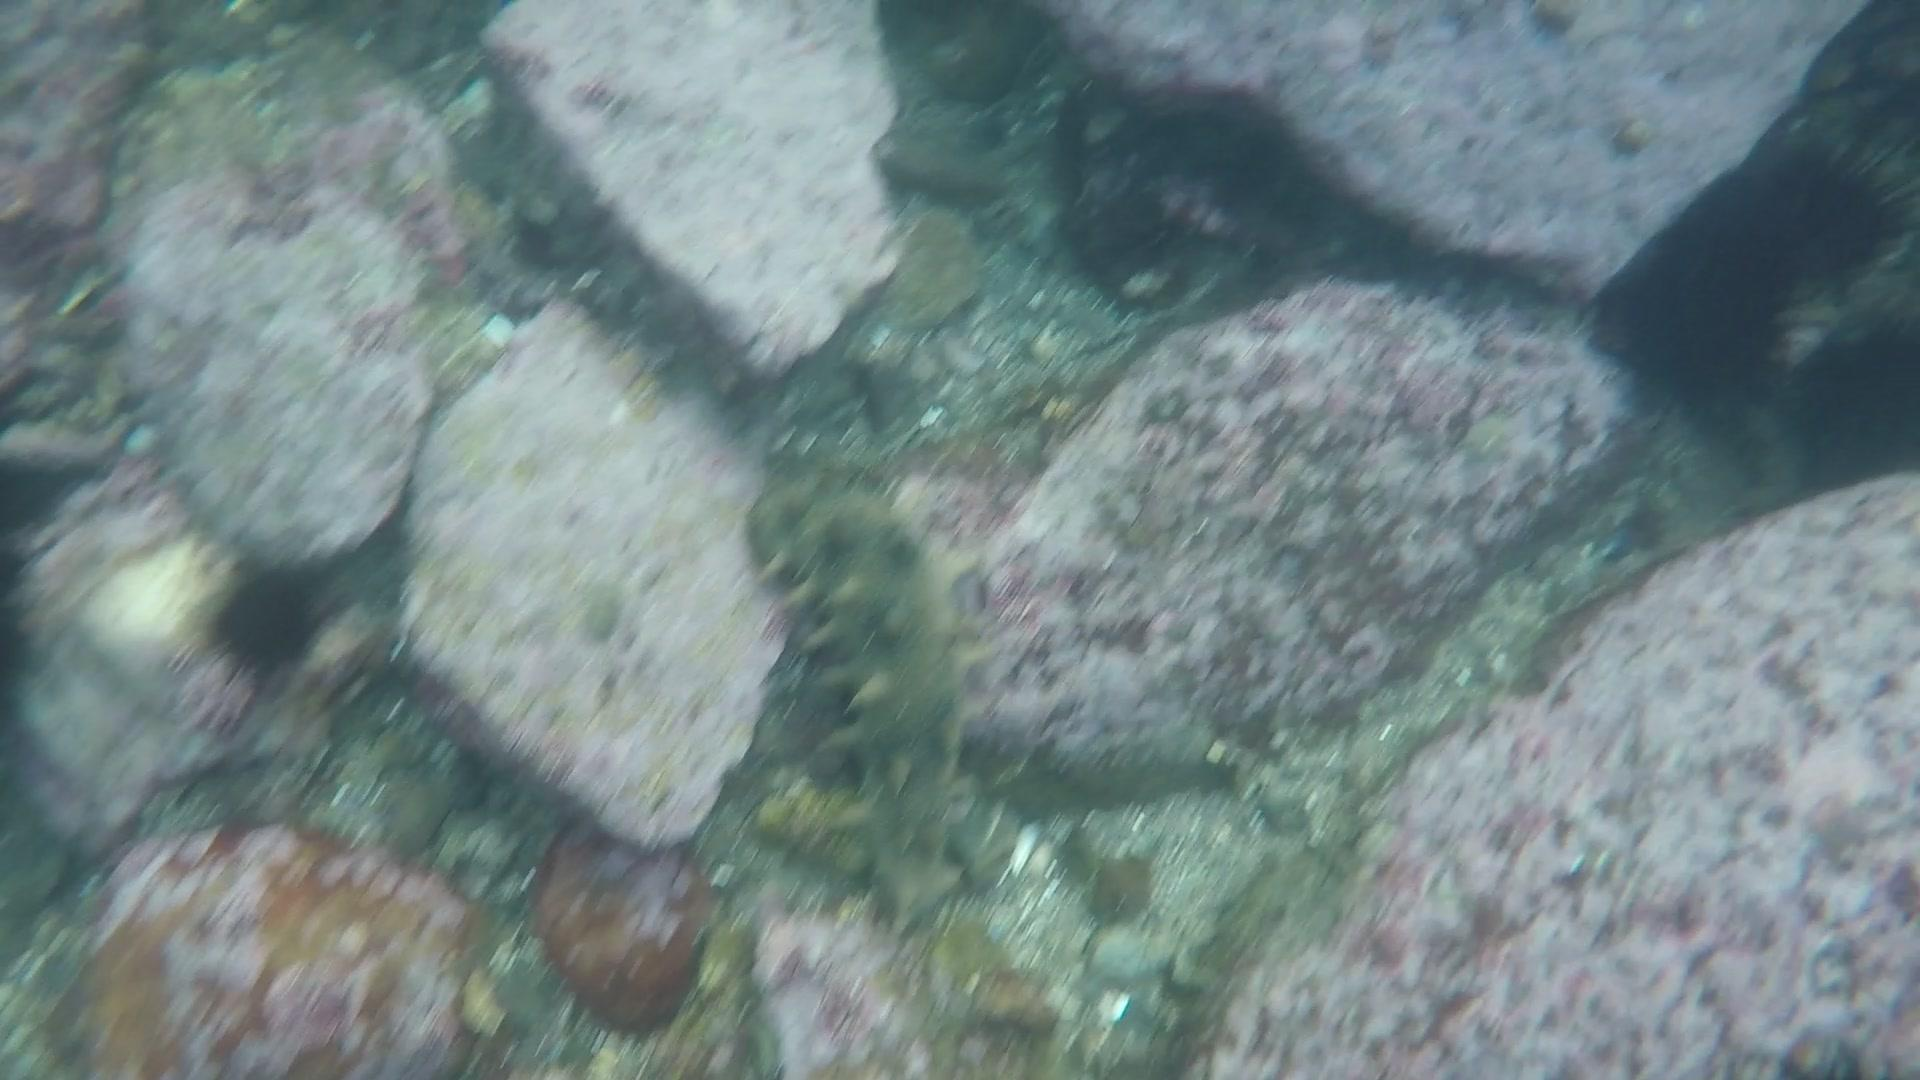echinus: (1619, 218, 1797, 426), (1731, 113, 1905, 277), (182, 560, 343, 707), (1803, 314, 1913, 463)
holothurian: (738, 465, 981, 930)
